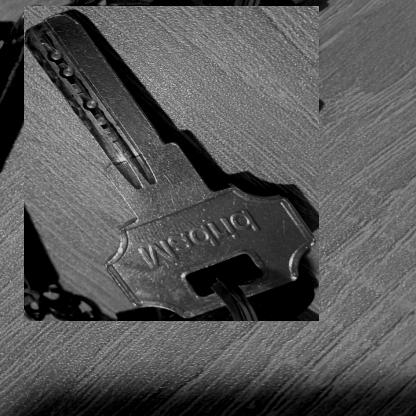key: (24, 6, 319, 321)
